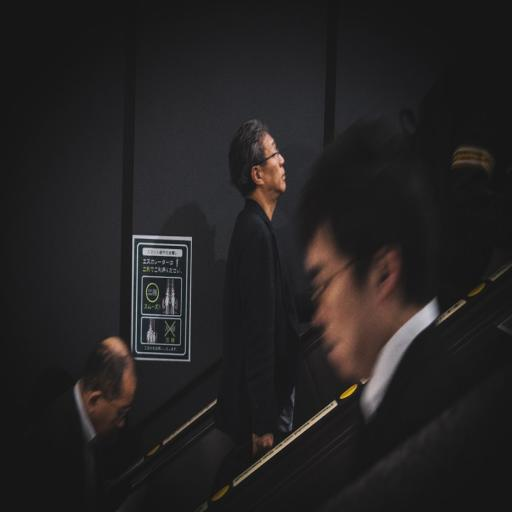face: (304, 224, 378, 380), (89, 369, 137, 436), (259, 133, 286, 197)
